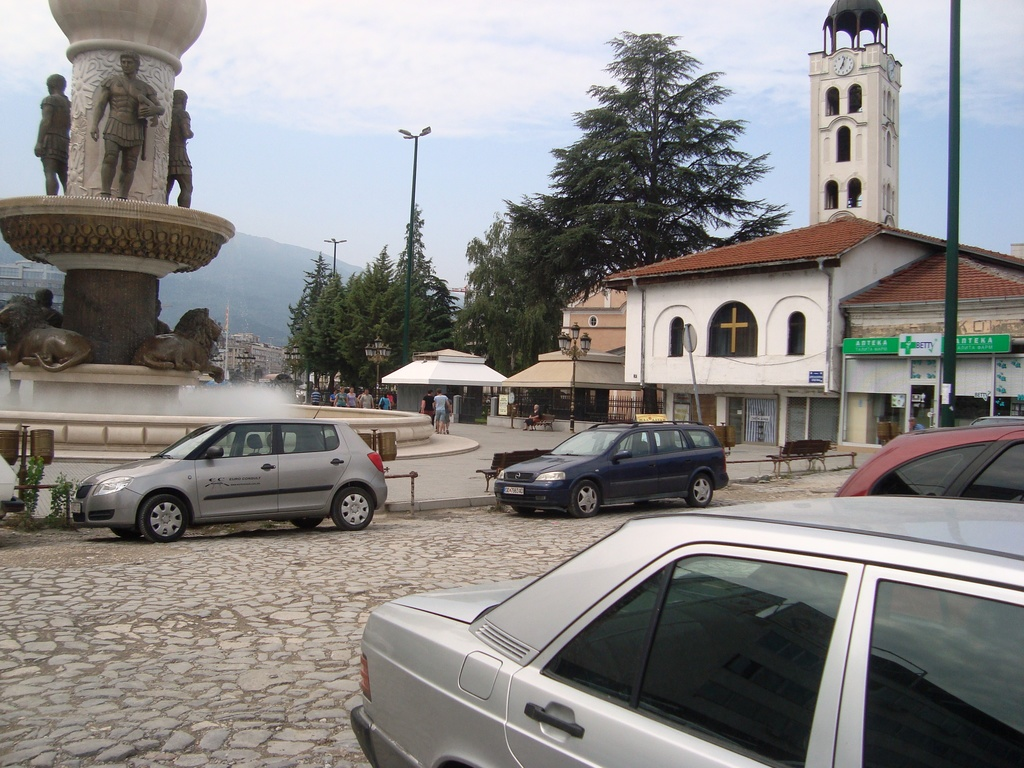Car: (362, 499, 1023, 767), (69, 394, 397, 534), (492, 419, 729, 515), (828, 426, 1023, 503)
